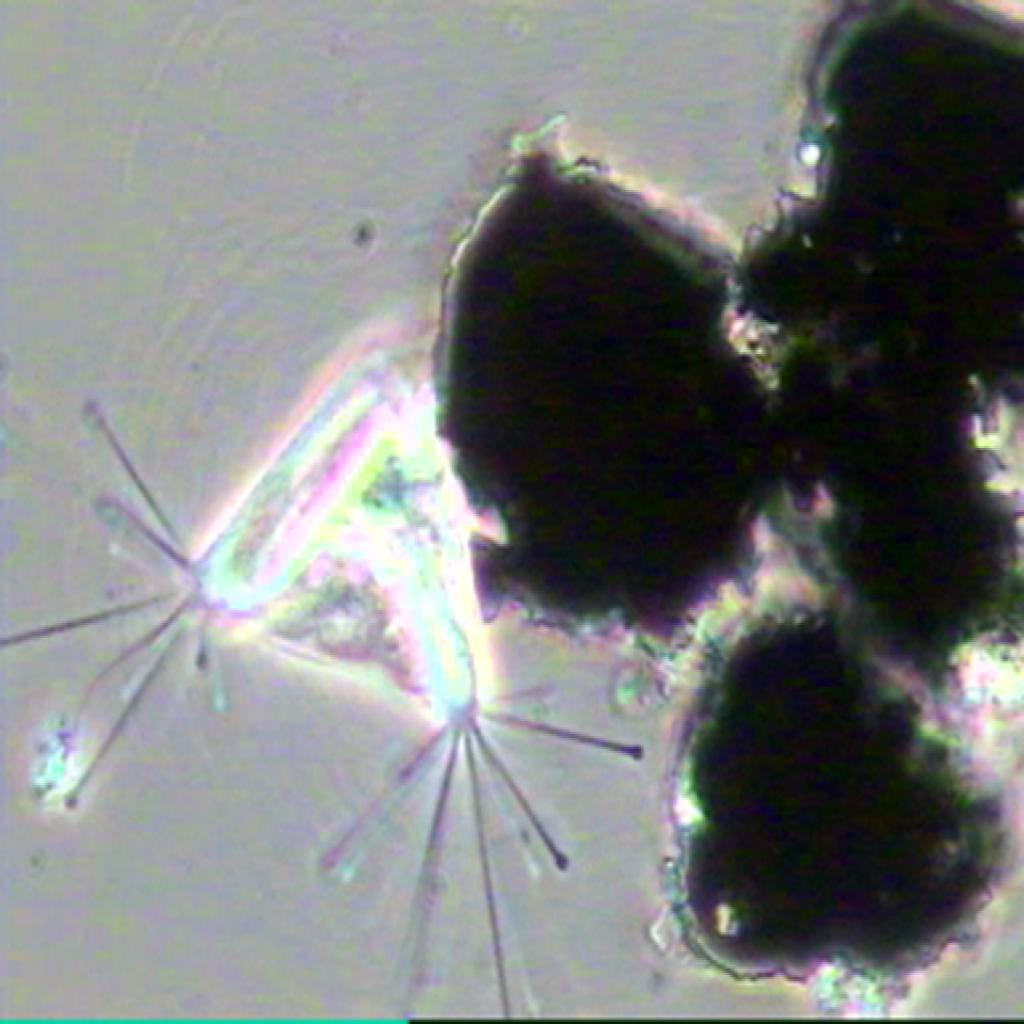Suctorida: (49, 303, 558, 994)
